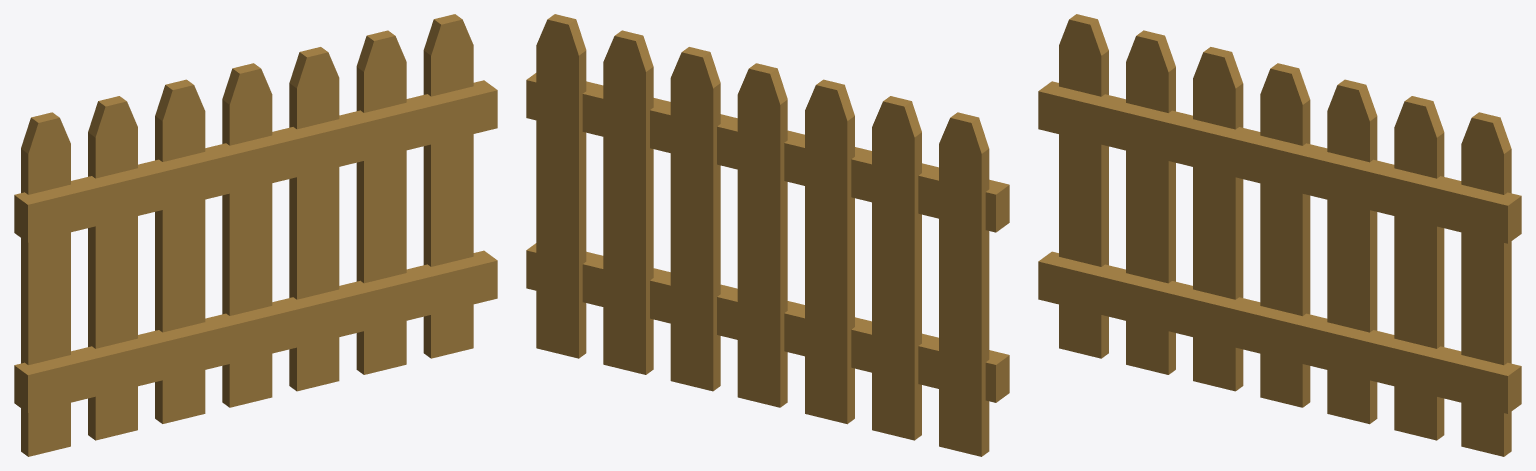
Rendered from WoodFenceLarge.fbx.
3 views of the same model, side by side, from view 1: azimuth 30°, elevation 25°; view 2: azimuth 150°, elevation 25°; view 3: azimuth 330°, elevation 25° (orthographic).
Parts seen in each view (by area): view 1: WoodFenceLarge; view 2: WoodFenceLarge; view 3: WoodFenceLarge.
Part boxes in pixels (x1,y1,x2,y2): WoodFenceLarge: (14, 14, 497, 456); WoodFenceLarge: (526, 14, 1009, 456); WoodFenceLarge: (1038, 14, 1521, 456).
Size of the model in its own units: 1.21 by 0.8174 by 0.0785.
